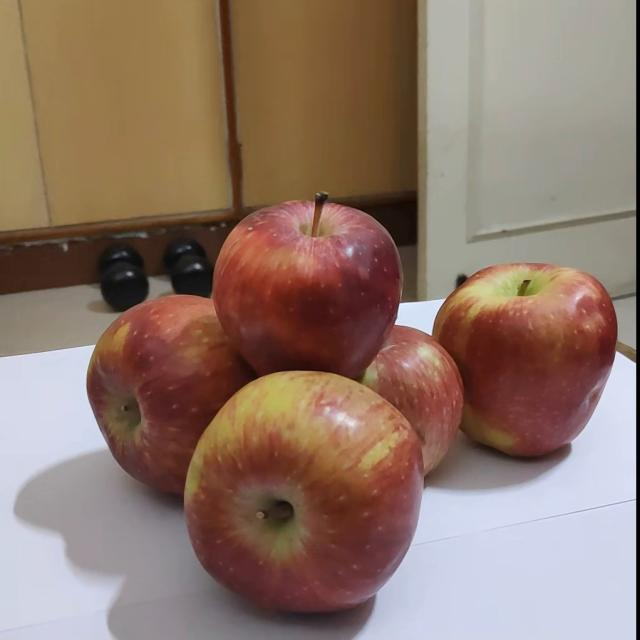apple: (208, 358, 458, 614), (432, 244, 627, 462), (87, 290, 287, 501), (230, 183, 425, 384)
